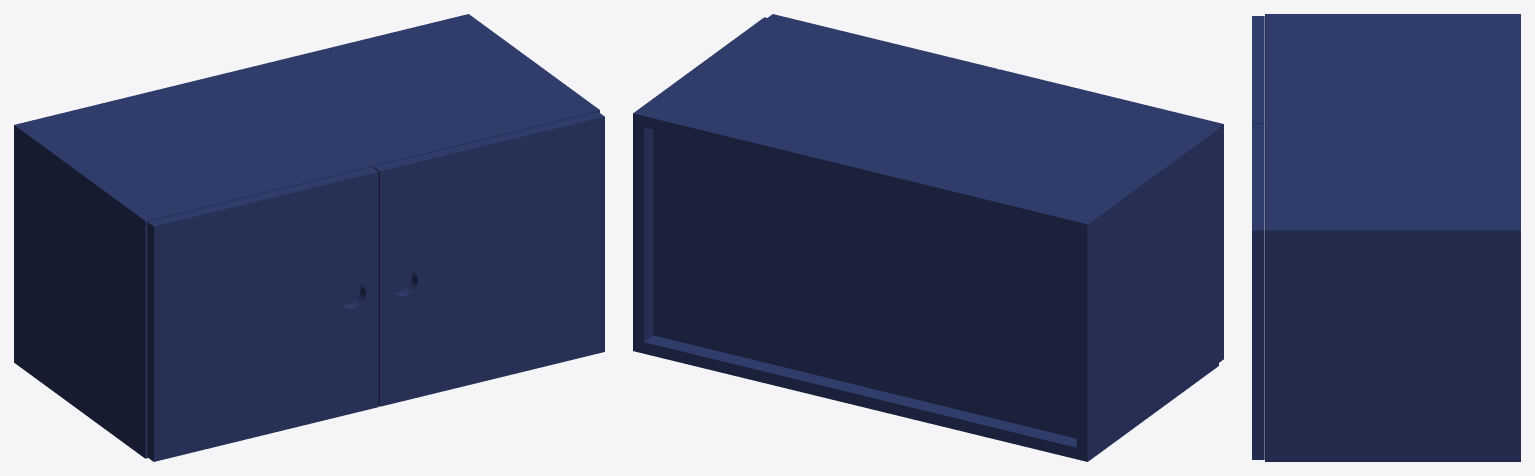
Rendered from MOD_2X1_D_B_AF.glb.
3 views of the same model, side by side, from view 1: azimuth 30°, elevation 25°; view 2: azimuth 150°, elevation 25°; view 3: azimuth 270°, elevation 25° (orthographic). The views are drawn at different scales.
Bounding box in the file's own units: 720 × 360 × 378.
